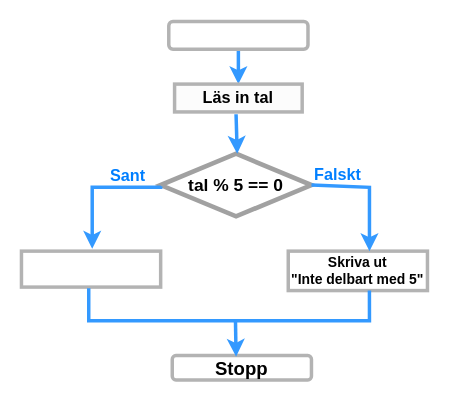
This 449x401 diagram has some shape labels left out. The box of each missing label's shape, as (x1, y1, x2, y2) in pixels:
Skriva ut "Delbart med 5": (19, 249, 162, 288)
Start: (166, 19, 309, 50)
